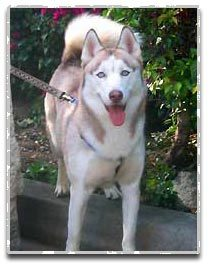dog: (42, 12, 150, 253)
